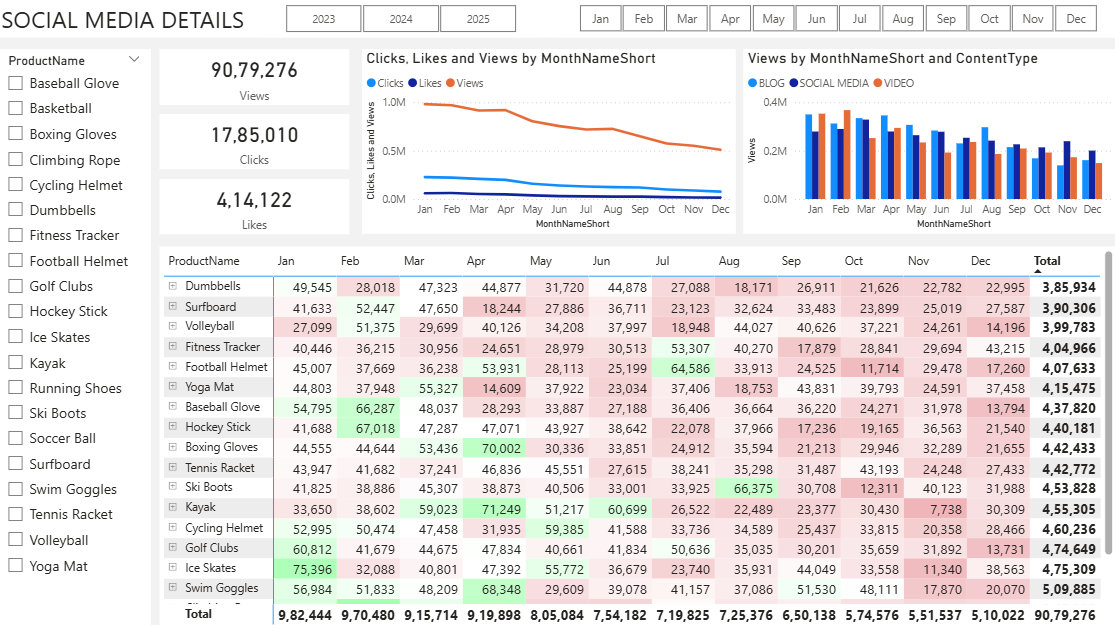

The dashboard page shown, as its layout file describes it:
{"tool":"powerbi","page":{"name":"Social Media Details","canvas":[1280,720],"ordinal":2},"visuals":[{"type":"textbox","box":[0,0,1280.3,44],"z":0},{"type":"slicer","fields":{"Values":["dim_products.ProductName"]},"box":[0,57.1,175.7,662.9],"z":1000},{"type":"slicer","fields":{"Values":["Calendar.MonthNameShort"]},"box":[639.5,0,640.8,44],"z":2000},{"type":"card","fields":{"Values":["Calculations.Views"]},"box":[185.7,57.1,217.1,64.3],"z":3000},{"type":"card","fields":{"Values":["Calculations.Clicks"]},"box":[185.7,131.4,217.1,62.9],"z":4000},{"type":"card","fields":{"Values":["Calculations.Likes"]},"box":[185.7,205.7,217.1,62.9],"z":5000},{"type":"lineChart","fields":{"Category":["Calendar.MonthNameShort"],"Y":["Calculations.Clicks","Calculations.Likes","Calculations.Views"]},"box":[417.1,57.1,427.1,211.4],"z":6000},{"type":"clusteredColumnChart","fields":{"Y":["Calculations.Views"],"Series":["fact_engagement_data.ContentType"],"Category":["Calendar.MonthNameShort"]},"box":[852.9,57.1,427.1,211.4],"z":7000},{"type":"pivotTable","fields":{"Rows":["dim_products.ProductName","fact_engagement_data.ContentType"],"Columns":["Calendar.MonthNameShort"],"Values":["Calculations.Views"]},"box":[185.7,282.9,1094.3,437.1],"z":8000},{"type":"slicer","fields":{"Values":["Calendar.Year"]},"box":[304.3,0,312.9,44.3],"z":9000}]}

Visuals, with their boxes in screenshot pixels (x1, y1, x2, y2), scaled from the page's 1280x720 canvas onto the 1115x625 screenshot:
textbox: detection(0, 0, 1114, 38)
slicer - dim_products.ProductName: detection(0, 50, 153, 624)
slicer - Calendar.MonthNameShort: detection(557, 0, 1114, 38)
card - Calculations.Views: detection(162, 50, 351, 105)
card - Calculations.Clicks: detection(162, 114, 351, 169)
card - Calculations.Likes: detection(162, 179, 351, 233)
lineChart - Calendar.MonthNameShort x Calculations.Clicks: detection(363, 50, 735, 233)
clusteredColumnChart - Calculations.Views x fact_engagement_data.ContentType: detection(743, 50, 1114, 233)
pivotTable - dim_products.ProductName x fact_engagement_data.ContentType: detection(162, 246, 1114, 624)
slicer - Calendar.Year: detection(265, 0, 538, 38)
